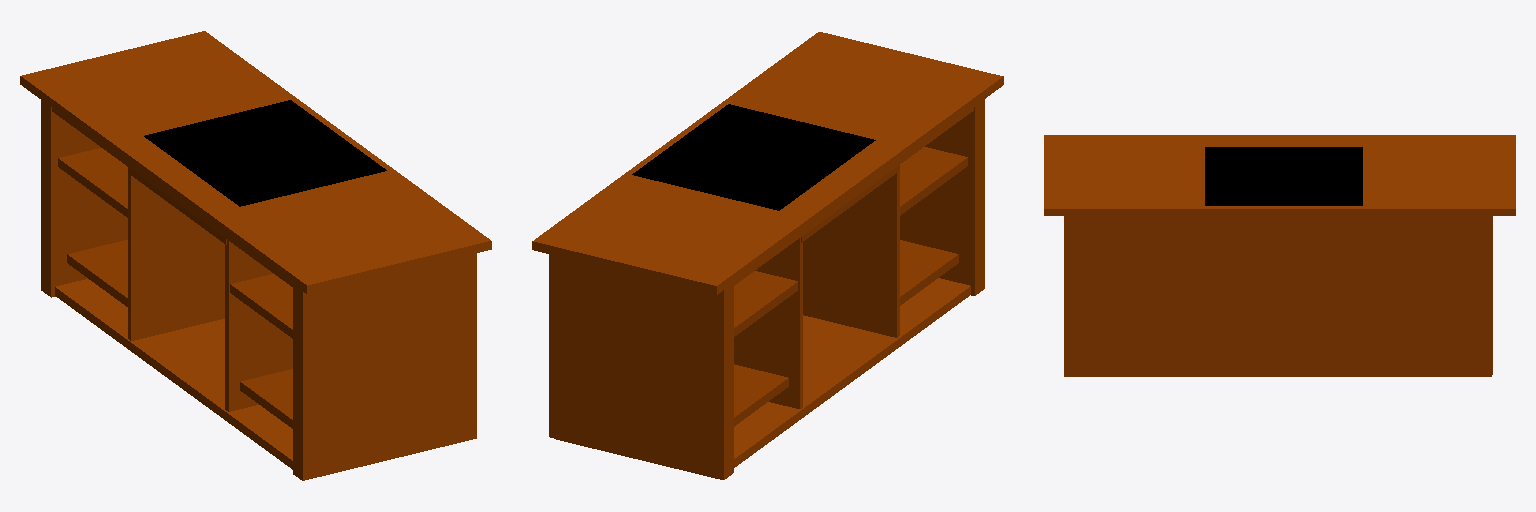
robot.urdf — stove_table:
<?xml version="1.0"?>

<robot name="stove_table">
  <link name="stove_table_frame">
    <visual>
      <geometry>
        <mesh filename="package://kitchen_context/models/stove_table/meshes/stove_table.dae"/>
      </geometry>
    </visual>
  </link>
</robot>

--- Render facts (derived) ---
Views: 3 orthographic renders of the robot side by side, from view 1: azimuth 30°, elevation 25°; view 2: azimuth 150°, elevation 25°; view 3: azimuth 270°, elevation 25°.
Robot: stove_table — 1 links, 0 joints (none); root link stove_table_frame; default pose: all joints at 0.
Links seen in each view (by area): view 1: stove_table_frame; view 2: stove_table_frame; view 3: stove_table_frame.
Boxes of the visible links, x1=… form: stove_table_frame: x1=20, y1=31, x2=491, y2=480; stove_table_frame: x1=532, y1=32, x2=1003, y2=479; stove_table_frame: x1=1044, y1=135, x2=1515, y2=376.
Size in the robot's own frame: 0.65 by 1.75 by 0.6958 metres.
1 mesh visuals loaded from 1 distinct referenced files (1 Collada DAE).